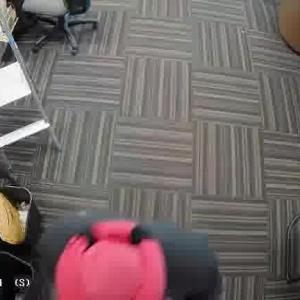person: (45, 222, 210, 300)
